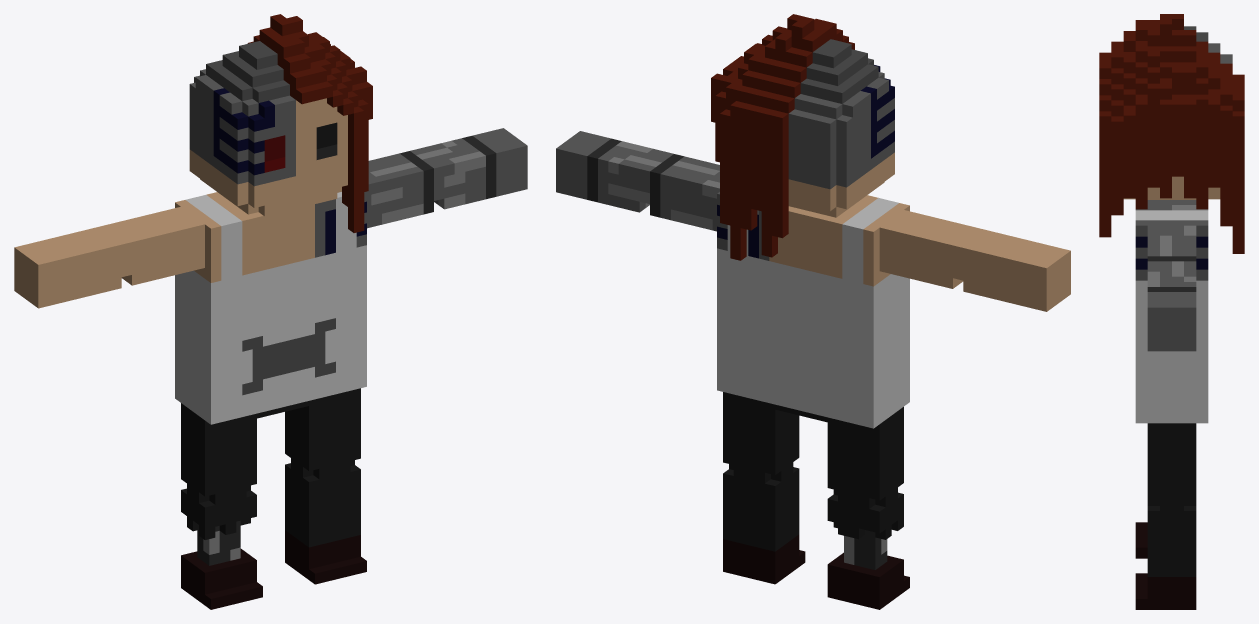
File: character8.obj
The picture shows the model from 3 angles, left to right: view 1: azimuth 30°, elevation 25°; view 2: azimuth 150°, elevation 25°; view 3: azimuth 270°, elevation 25°; orthographic projection.
Size of the model in its own units: 4.7 by 5.1 by 1.2.
Materials: 1 (1 with a texture image).
